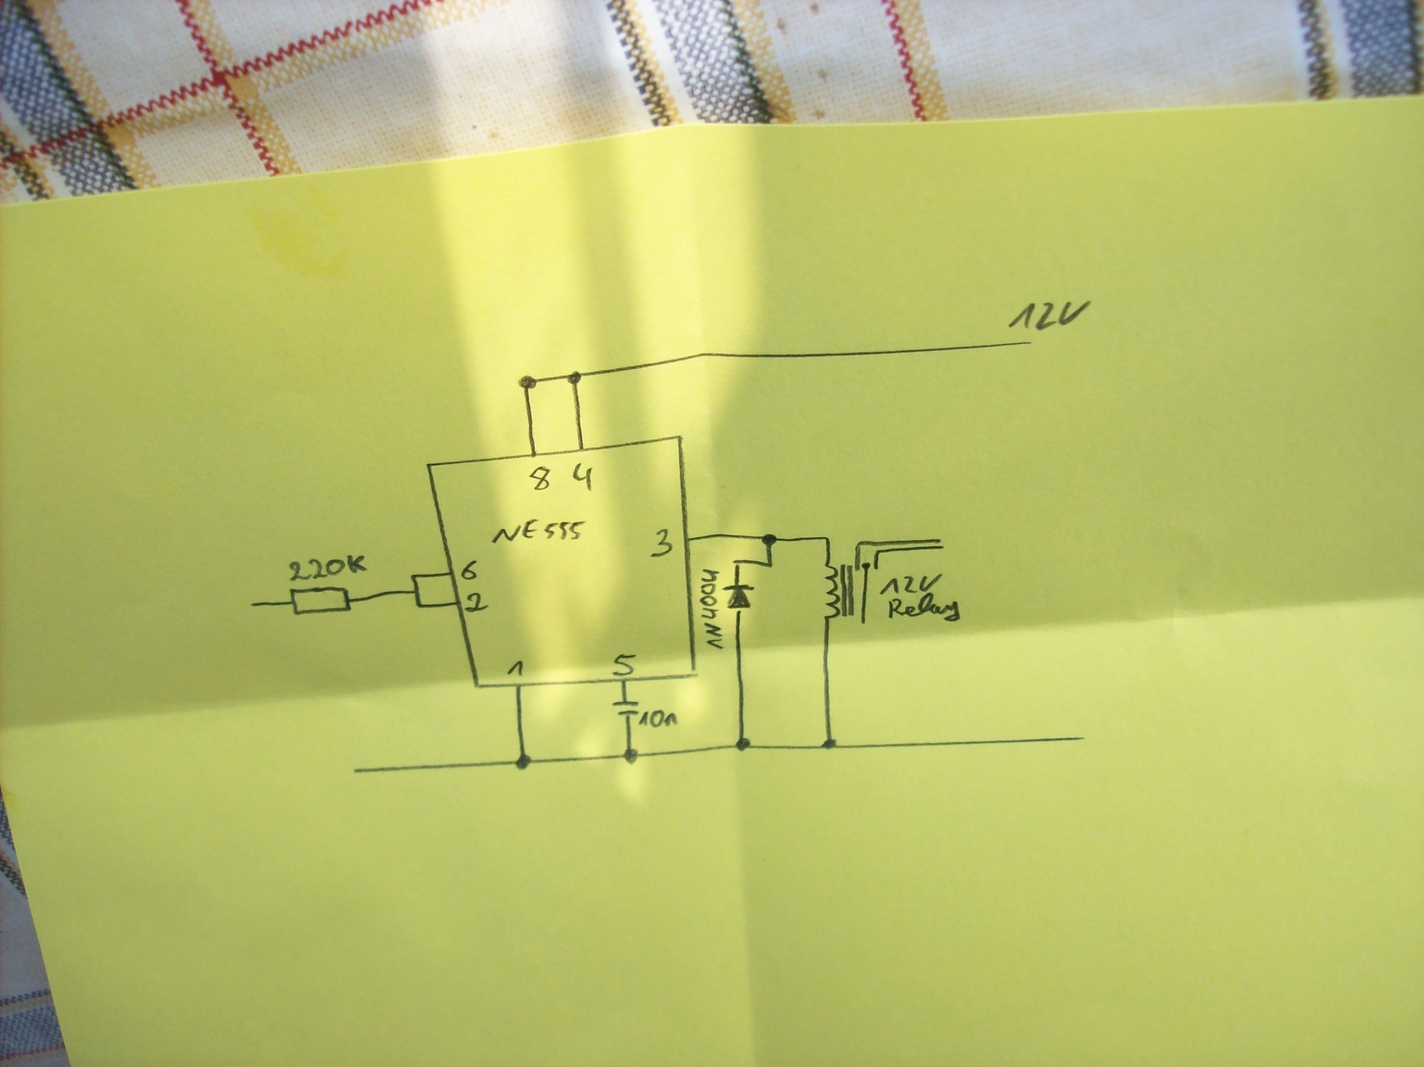capacitor.unpolarized: (611, 698, 641, 718)
diode: (722, 582, 757, 613)
integrated_cricuit.ne555: (425, 432, 700, 689)
junction: (516, 373, 539, 391), (621, 746, 640, 766), (514, 753, 534, 771), (734, 736, 755, 753), (565, 368, 584, 386), (760, 532, 779, 547), (820, 737, 838, 751), (851, 538, 866, 550), (730, 556, 744, 568), (763, 558, 776, 570), (821, 533, 832, 545), (411, 586, 424, 596), (408, 570, 420, 579), (872, 548, 883, 557), (415, 600, 424, 610)
relay: (821, 560, 879, 620)
resistor: (287, 584, 355, 616)
terminal: (348, 764, 365, 778), (1021, 337, 1039, 350), (248, 599, 258, 611), (1076, 734, 1089, 743), (859, 618, 871, 627), (939, 542, 947, 550), (936, 537, 944, 544)
text: (488, 517, 586, 545), (1007, 299, 1093, 331), (887, 592, 962, 624), (288, 553, 369, 582), (698, 567, 725, 652), (879, 572, 943, 594), (646, 527, 674, 559), (637, 709, 679, 729), (571, 461, 594, 492), (528, 464, 552, 491), (611, 652, 637, 676), (464, 591, 488, 614), (460, 558, 480, 582), (506, 659, 524, 679)
